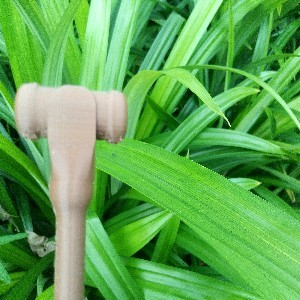palu: (13, 80, 128, 300)
